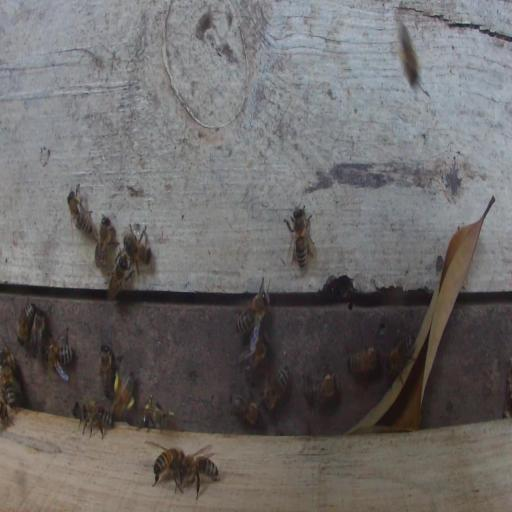nonpollenbee: (236, 277, 270, 334), (181, 451, 219, 498), (305, 363, 340, 411), (78, 400, 115, 439), (106, 250, 134, 300), (397, 23, 418, 89), (123, 225, 152, 272), (262, 366, 290, 411), (386, 333, 416, 375), (43, 331, 74, 371), (0, 344, 18, 405), (70, 189, 93, 236), (154, 447, 182, 483), (96, 213, 115, 266), (230, 393, 260, 426), (241, 335, 268, 370), (346, 347, 379, 375), (30, 307, 47, 359), (17, 298, 34, 347), (293, 208, 307, 264), (101, 345, 114, 396), (143, 408, 167, 429), (2, 401, 8, 424)
pollenbee: (113, 372, 135, 420)
